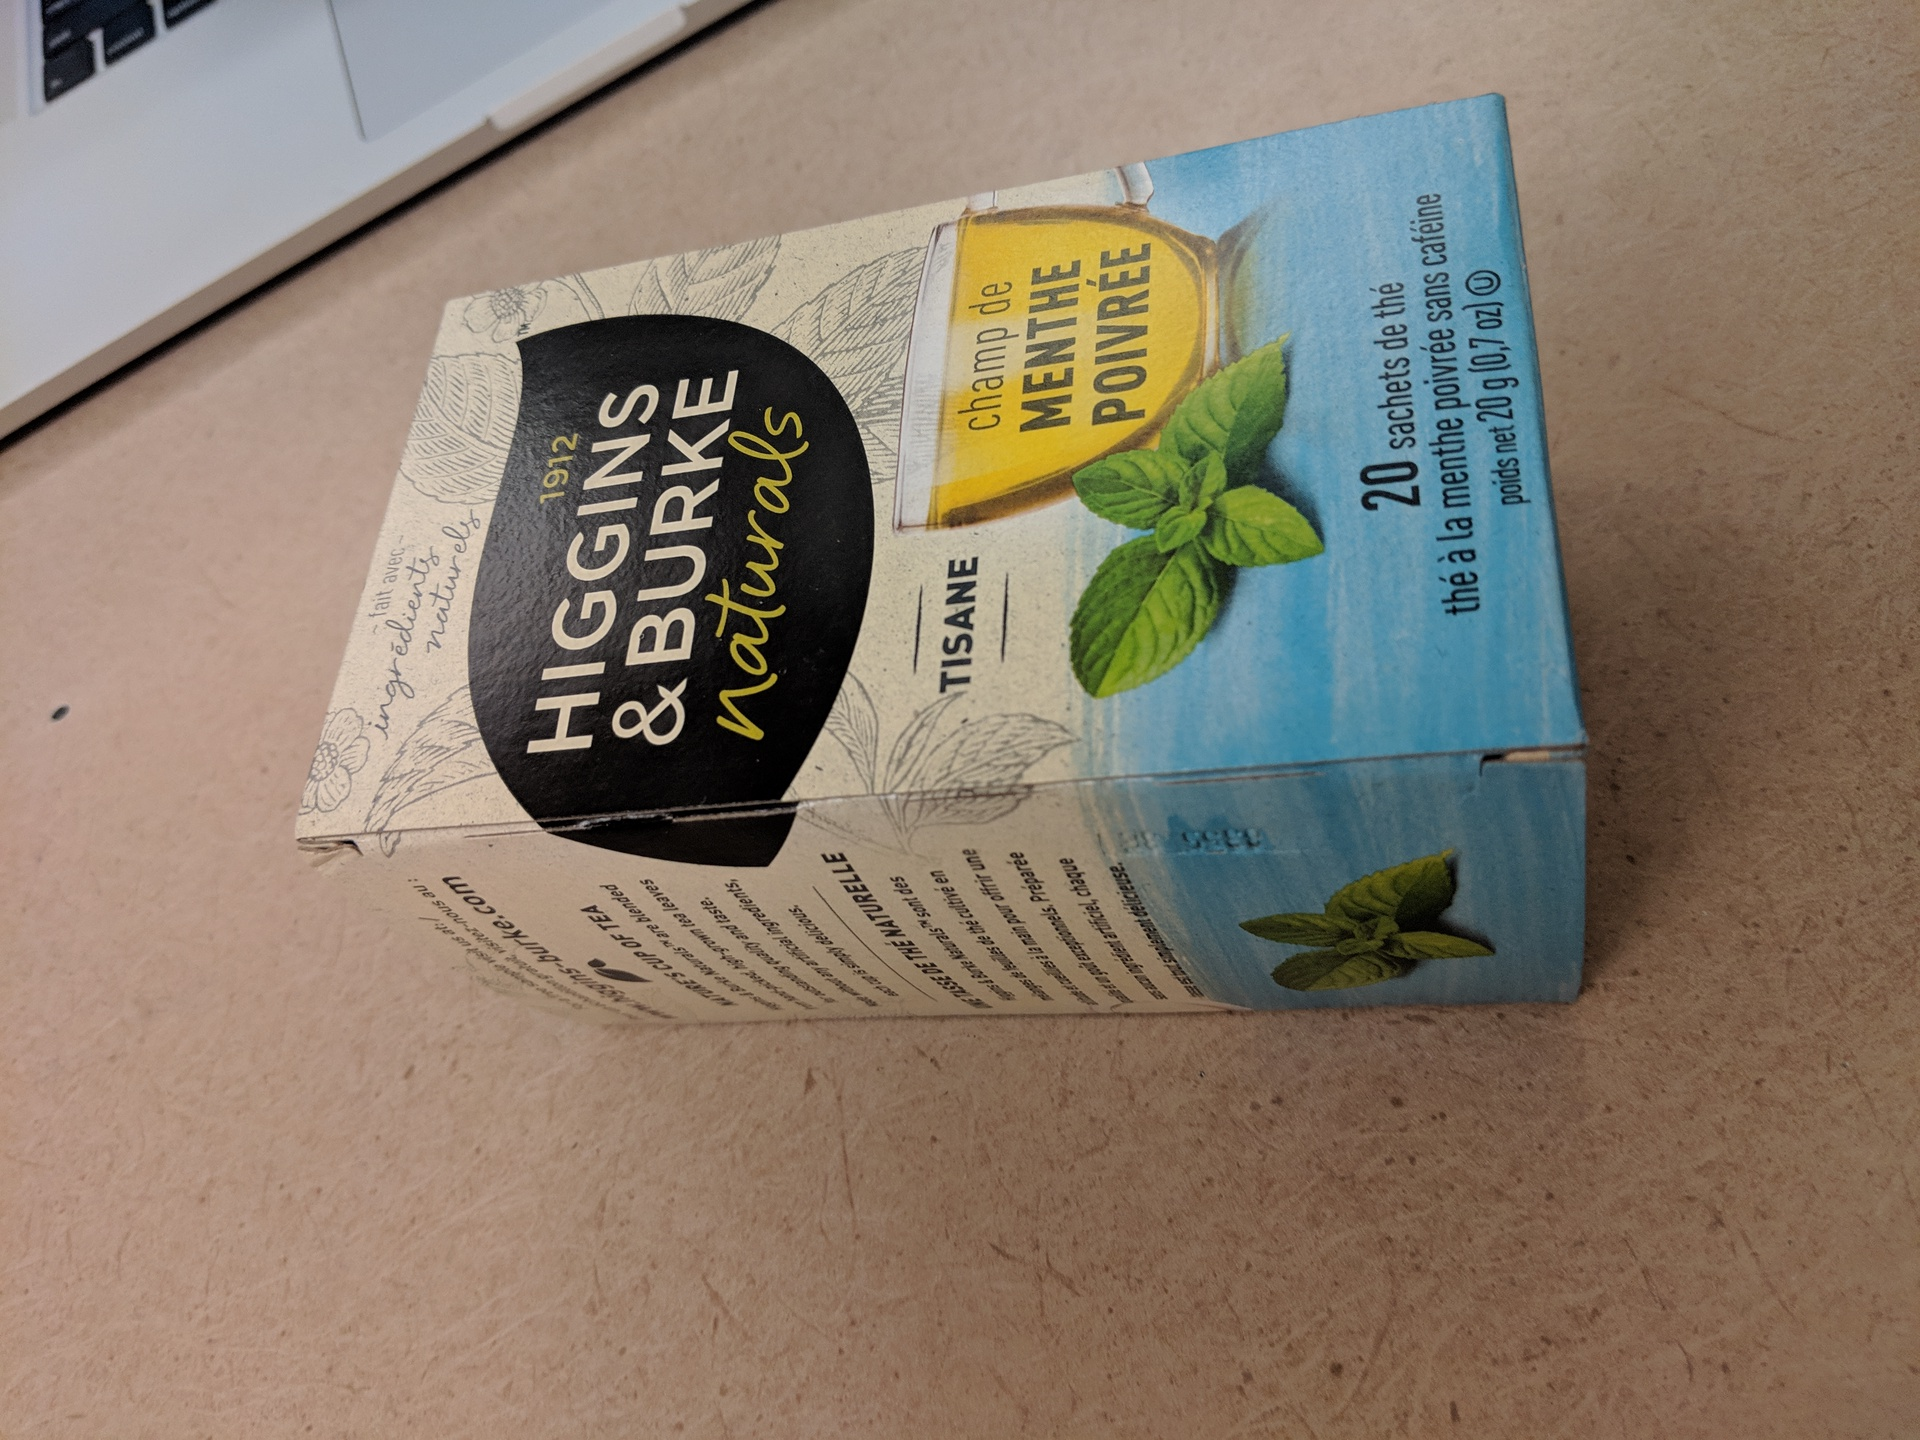higgins_and_burke_naturals_peppermint: (275, 82, 1606, 1035)
